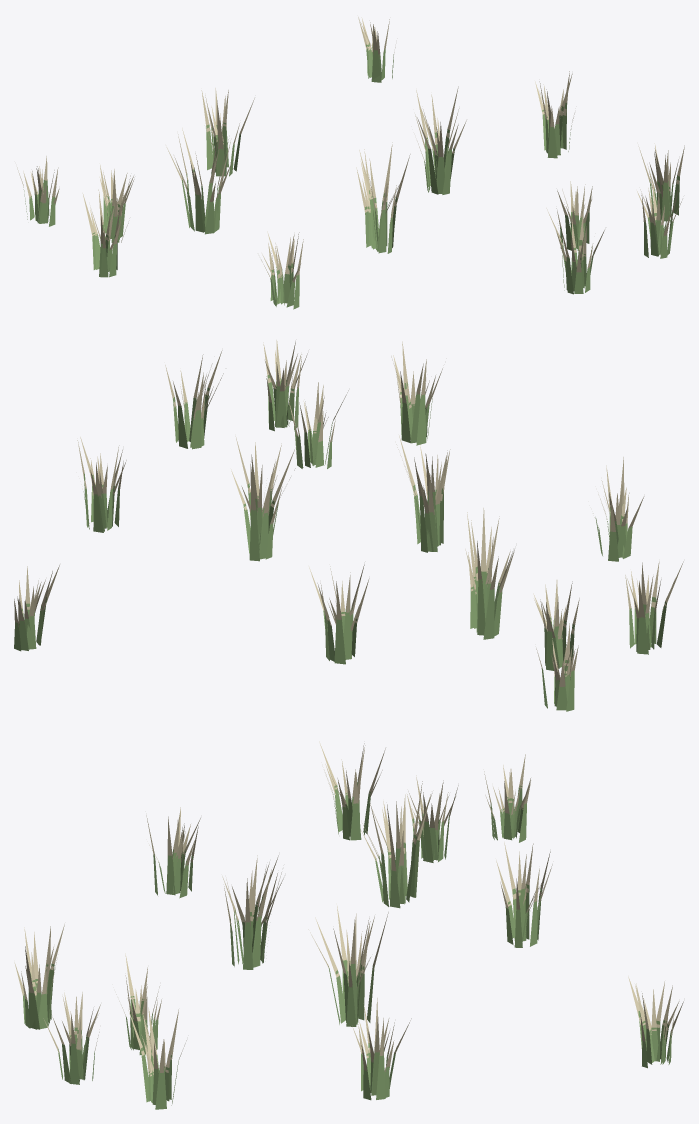
Rendered from Blender_DuneGrass_3.glb.
3 renders of one model, top to bottom at view 1: azimuth 30°, elevation 25°; view 2: azimuth 150°, elevation 25°; view 3: azimuth 270°, elevation 25°, orthographic. The views are drawn at different scales.
Parts seen in each view (by area): view 1: Blender_DuneGrass_3; view 2: Blender_DuneGrass_3; view 3: Blender_DuneGrass_3.
Boxes of the visible parts, x1,y1,x2,y2 form: Blender_DuneGrass_3: (17, 17, 684, 309); Blender_DuneGrass_3: (14, 340, 683, 711); Blender_DuneGrass_3: (14, 741, 683, 1109).
Size of the model in its own units: 4.61 by 0.857 by 4.48.
